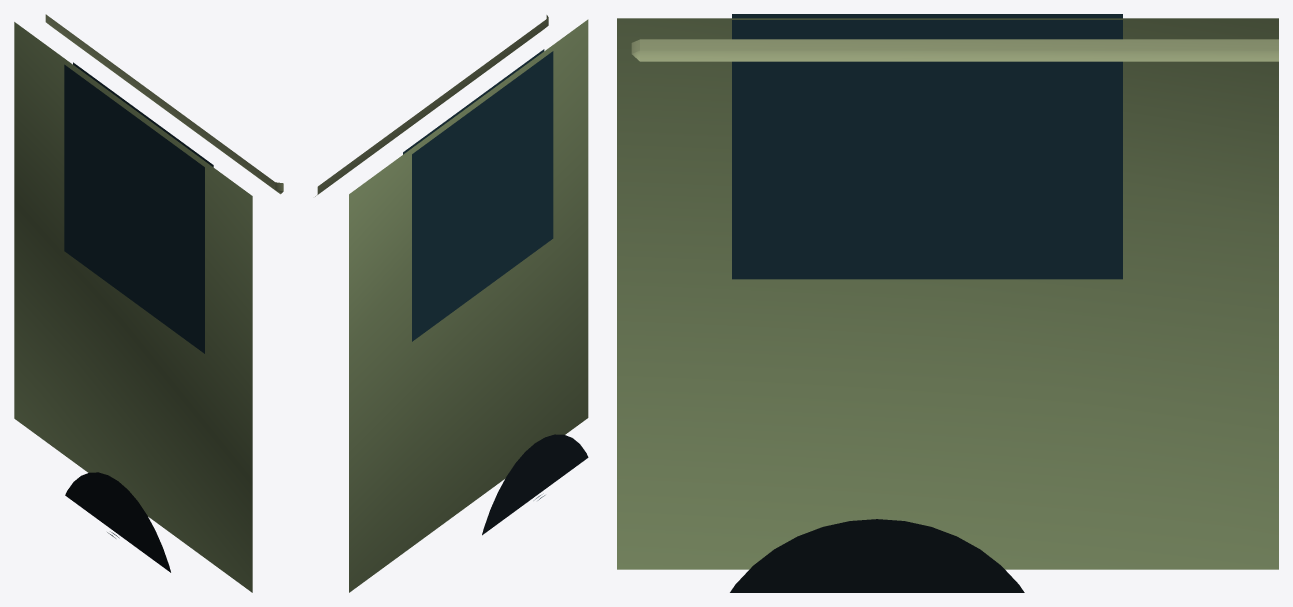
Rendered from van-left.glb.
3 renders of one model, left to right at view 1: azimuth 30°, elevation 25°; view 2: azimuth 150°, elevation 25°; view 3: azimuth 270°, elevation 25°, orthographic. The views are drawn at different scales.
Size of the model in its own units: 0.2668 by 1.21 by 1.32.
Materials: 1 (1 with a texture image).
